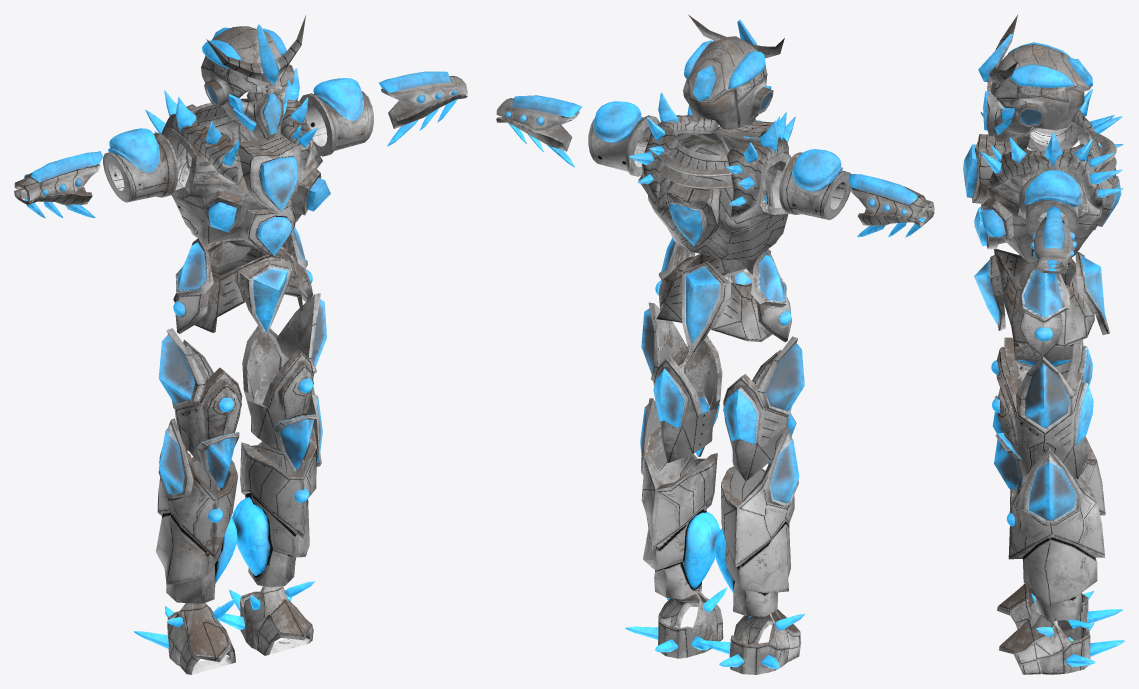
File: FIDOR.fbx
3 renders of one model, left to right at view 1: azimuth 30°, elevation 25°; view 2: azimuth 150°, elevation 25°; view 3: azimuth 270°, elevation 25°, orthographic. The views are drawn at different scales.
Parts seen in each view (by area): view 1: FIDOR_ARMOR_CHEST, FIDOR_ARMOR_LEG_RIGHT, FIDOR_ARMOR_LEG_LEFT, FIDOR_ARMOR_HIPS, FIDOR_ARMOR_UPPER_LEG_LEFT, FIDOR_ARMOR_HELMET, FIDOR_ARMOR_UPPER_LEG_RIGHT, FIDOR_ARMOR_ARM_RIGHT, FIDOR_ARMOR_FOOT_LEFT, FIDOR_ARMOR_FOOT_RIGHT, FIDOR_ARMOR_ARM_LEFT, FIDOR_ARMOR_FOREARM_RIGHT (+1 smaller); view 2: FIDOR_ARMOR_CHEST, FIDOR_ARMOR_LEG_RIGHT, FIDOR_ARMOR_HIPS, FIDOR_ARMOR_LEG_LEFT, FIDOR_ARMOR_UPPER_LEG_LEFT, FIDOR_ARMOR_HELMET, FIDOR_ARMOR_UPPER_LEG_RIGHT, FIDOR_ARMOR_ARM_RIGHT, FIDOR_ARMOR_FOOT_RIGHT, FIDOR_ARMOR_FOOT_LEFT, FIDOR_ARMOR_ARM_LEFT, FIDOR_ARMOR_FOREARM_RIGHT (+1 smaller); view 3: FIDOR_ARMOR_CHEST, FIDOR_ARMOR_LEG_LEFT, FIDOR_ARMOR_HIPS, FIDOR_ARMOR_UPPER_LEG_LEFT, FIDOR_ARMOR_HELMET, FIDOR_ARMOR_FOOT_LEFT, FIDOR_ARMOR_UPPER_LEG_RIGHT, FIDOR_ARMOR_ARM_LEFT, FIDOR_ARMOR_FOREARM_LEFT, FIDOR_ARMOR_FOOT_RIGHT, FIDOR_ARMOR_ARM_RIGHT, FIDOR_ARMOR_LEG_RIGHT.
Part boxes in pixels (x1,y1,x2,y2): FIDOR_ARMOR_CHEST: (145,68,330,256); FIDOR_ARMOR_LEG_RIGHT: (156,418,238,603); FIDOR_ARMOR_LEG_LEFT: (232,387,322,587); FIDOR_ARMOR_HIPS: (173,226,312,337); FIDOR_ARMOR_UPPER_LEG_LEFT: (242,293,326,472); FIDOR_ARMOR_HELMET: (201,15,305,141); FIDOR_ARMOR_UPPER_LEG_RIGHT: (158,328,242,490); FIDOR_ARMOR_ARM_RIGHT: (103,128,178,202); FIDOR_ARMOR_FOOT_LEFT: (213,580,315,655); FIDOR_ARMOR_FOOT_RIGHT: (134,598,236,674); FIDOR_ARMOR_ARM_LEFT: (299,78,373,156); FIDOR_ARMOR_FOREARM_RIGHT: (14,151,102,218); FIDOR_ARMOR_CHEST: (629,92,795,259); FIDOR_ARMOR_LEG_RIGHT: (714,427,799,616); FIDOR_ARMOR_HIPS: (655,238,791,356); FIDOR_ARMOR_LEG_LEFT: (640,398,720,599); FIDOR_ARMOR_UPPER_LEG_LEFT: (641,302,722,462); FIDOR_ARMOR_HELMET: (683,14,784,129); FIDOR_ARMOR_UPPER_LEG_RIGHT: (723,336,804,481); FIDOR_ARMOR_ARM_RIGHT: (779,149,851,219); FIDOR_ARMOR_FOOT_RIGHT: (697,609,805,674); FIDOR_ARMOR_FOOT_LEFT: (625,587,727,658); FIDOR_ARMOR_ARM_LEFT: (588,101,659,176); FIDOR_ARMOR_FOREARM_RIGHT: (848,174,934,237); FIDOR_ARMOR_CHEST: (963,89,1123,262); FIDOR_ARMOR_LEG_LEFT: (1006,447,1105,620); FIDOR_ARMOR_HIPS: (974,249,1109,356); FIDOR_ARMOR_UPPER_LEG_LEFT: (992,356,1093,493); FIDOR_ARMOR_HELMET: (978,15,1092,142); FIDOR_ARMOR_FOOT_LEFT: (999,593,1124,674); FIDOR_ARMOR_UPPER_LEG_RIGHT: (991,337,1092,433); FIDOR_ARMOR_ARM_LEFT: (1019,170,1083,236); FIDOR_ARMOR_FOREARM_LEFT: (1030,206,1076,283); FIDOR_ARMOR_FOOT_RIGHT: (997,584,1122,629); FIDOR_ARMOR_ARM_RIGHT: (1027,122,1078,151); FIDOR_ARMOR_LEG_RIGHT: (1009,436,1105,515).
Bounding box in the file's own units: 0.1277 × 0.178 × 0.0423.
